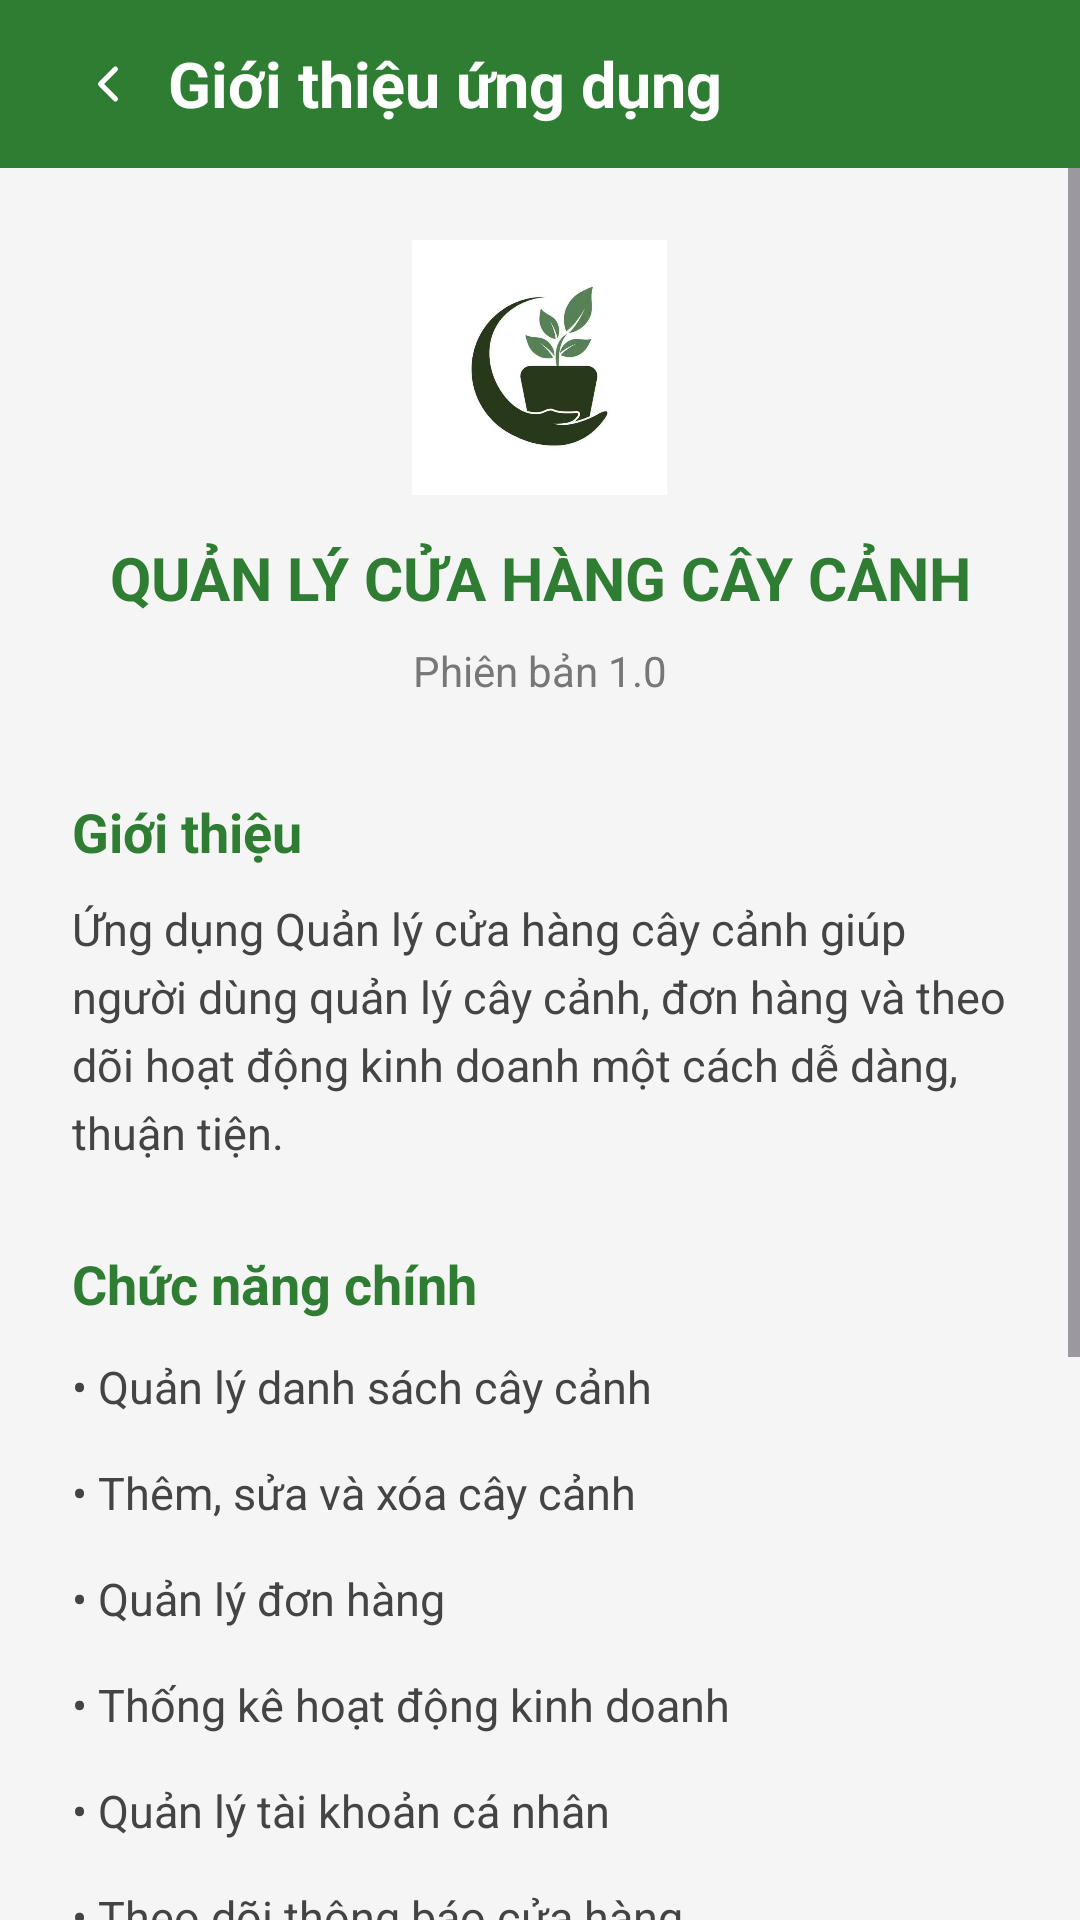

Where to tap for icons on this 1080px×1920px app screen, as (x=x, y=y):
Quay lại: (x=108, y=84)
